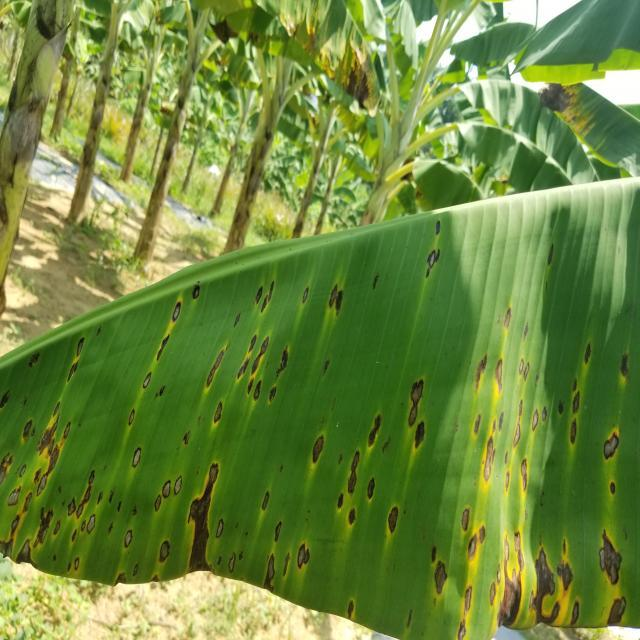Early_rust: (0, 182, 637, 640), (215, 0, 419, 140), (495, 61, 640, 194)
